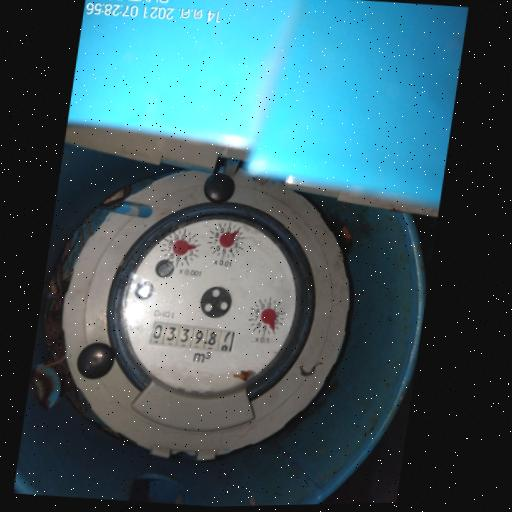0: (149, 322, 166, 345)
3: (162, 324, 181, 346), (177, 327, 194, 348)
7: (218, 330, 235, 352)
8: (204, 329, 221, 352)
9: (190, 327, 209, 349)
border_water_meter_number: (146, 317, 238, 356)
